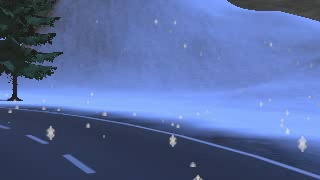Lane: (0, 107, 319, 179)
